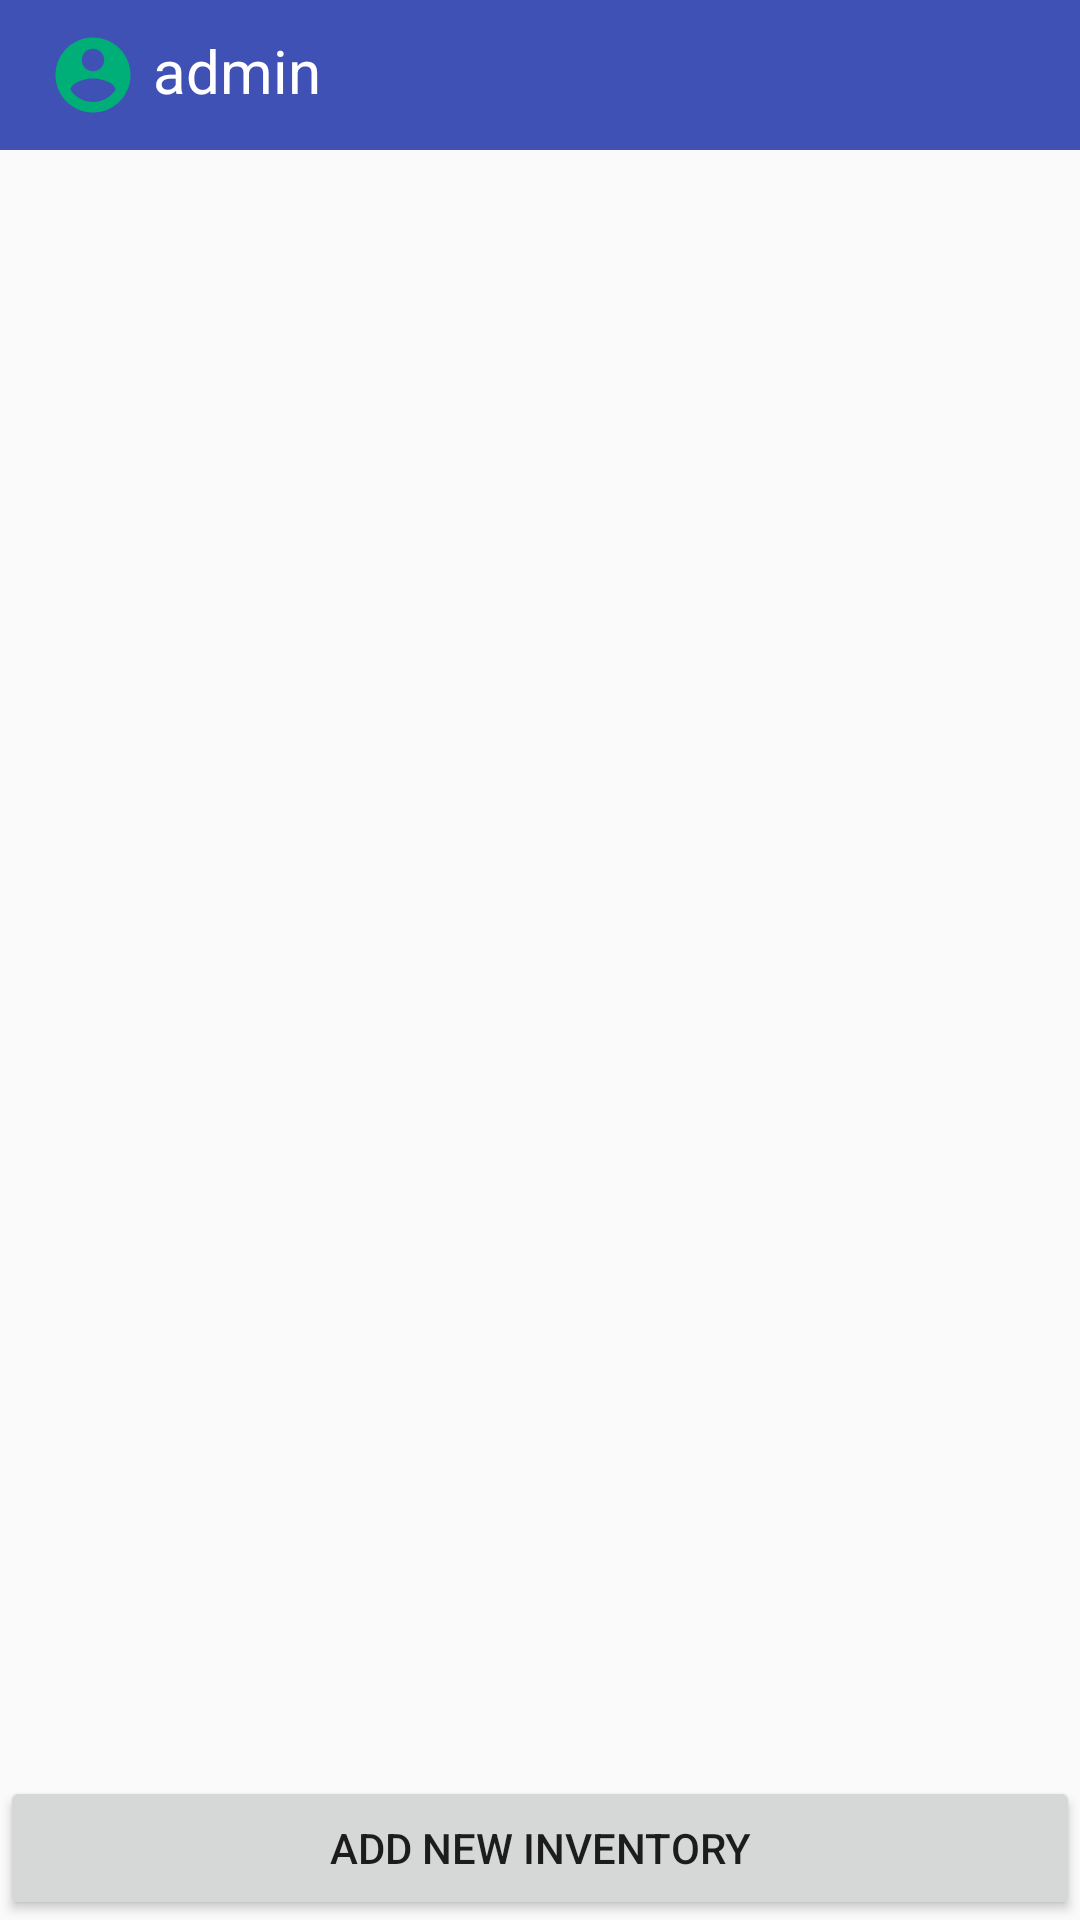

Icon click points for this 1080*1920 phone screenshot, format [x,y]:
account: [93,75]
